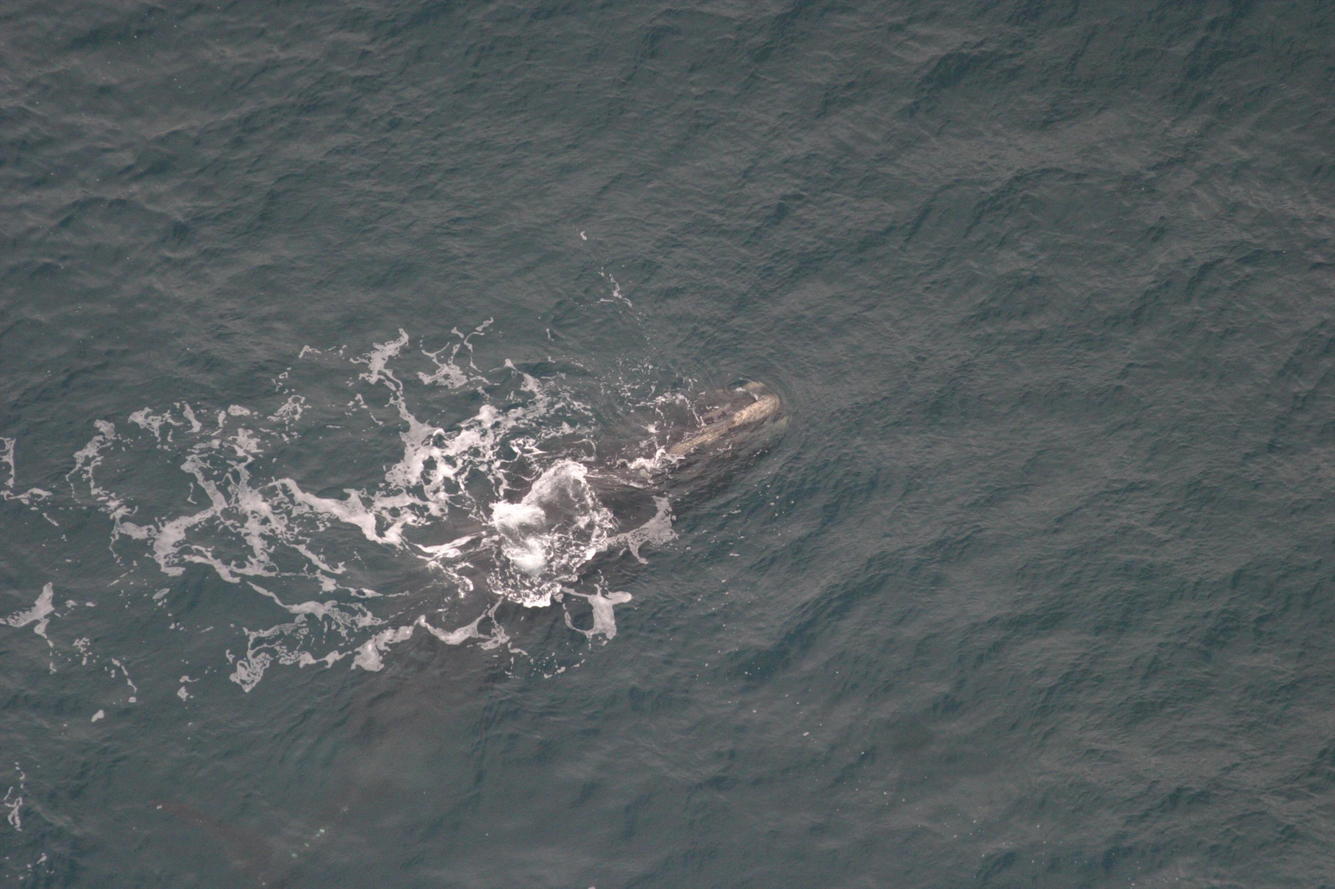whale: (305, 372, 795, 659)
